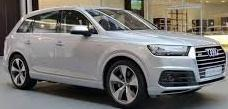Crossovers: (5, 8, 227, 109)
